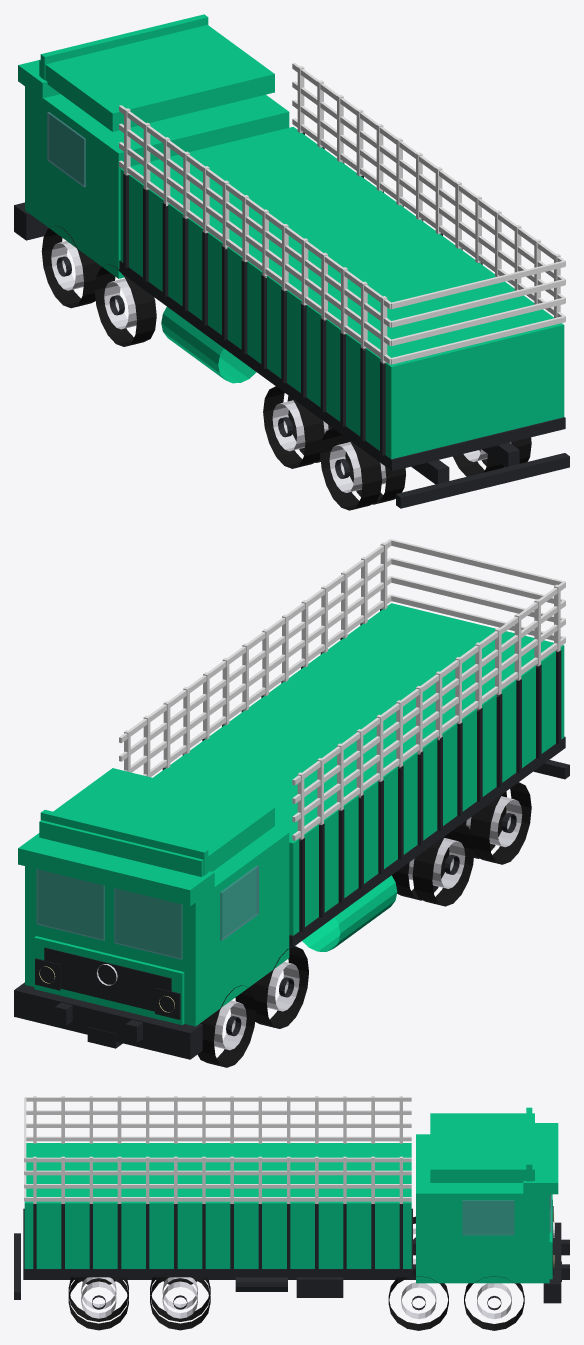
The model's file is lorry.obj.
3 renders of one model, top to bottom at view 1: azimuth 30°, elevation 25°; view 2: azimuth 150°, elevation 25°; view 3: azimuth 270°, elevation 25°, orthographic. The views are drawn at different scales.
Visible parts, largest first — view 1: CargoBody, WhiteCage, Cab, RoofRack, Wheels, Bumper, FuelTank, Chassis, Visor; view 2: CargoBody, WhiteCage, Cab, RoofRack, Wheels, Windshield, Grille, Bumper, Visor, FuelTank, Headlights, Chassis; view 3: CargoBody, WhiteCage, Cab, RoofRack, Wheels, Chassis, Visor, Bumper, Grille.
Boxes of the visible parts, bbox=[...] form: CargoBody: bbox=[119, 126, 565, 471]; WhiteCage: bbox=[119, 63, 565, 364]; Cab: bbox=[25, 86, 289, 278]; RoofRack: bbox=[39, 14, 274, 131]; Wheels: bbox=[41, 225, 531, 510]; Bumper: bbox=[14, 202, 569, 508]; FuelTank: bbox=[161, 307, 256, 383]; Chassis: bbox=[411, 442, 519, 484]; Visor: bbox=[18, 60, 59, 99]; CargoBody: bbox=[153, 603, 565, 947]; WhiteCage: bbox=[119, 539, 565, 840]; Cab: bbox=[25, 828, 289, 1026]; RoofRack: bbox=[39, 768, 274, 876]; Wheels: bbox=[197, 782, 531, 1067]; Windshield: bbox=[36, 869, 182, 959]; Grille: bbox=[34, 936, 184, 1025]; Bumper: bbox=[14, 760, 569, 1059]; Visor: bbox=[18, 833, 214, 906]; FuelTank: bbox=[302, 875, 397, 951]; Headlights: bbox=[35, 958, 180, 1019]; Chassis: bbox=[55, 1002, 142, 1042]; CargoBody: bbox=[23, 1143, 412, 1277]; WhiteCage: bbox=[24, 1096, 411, 1203]; Cab: bbox=[416, 1134, 549, 1283]; RoofRack: bbox=[430, 1107, 534, 1182]; Wheels: bbox=[68, 1216, 524, 1330]; Chassis: bbox=[23, 1239, 569, 1297]; Visor: bbox=[523, 1123, 558, 1194]; Bumper: bbox=[14, 1222, 561, 1303]; Grille: bbox=[549, 1194, 554, 1279].
Size of the model in its own units: 2.54 by 3.3 by 9.56.
